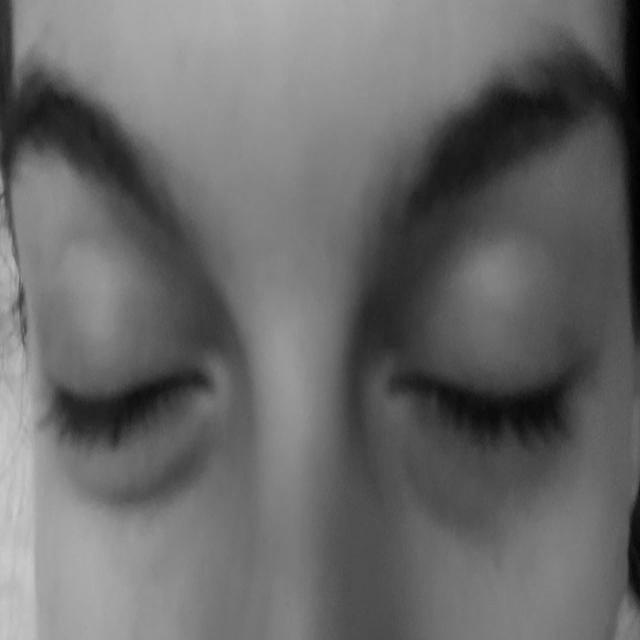real: (24, 229, 612, 491)
